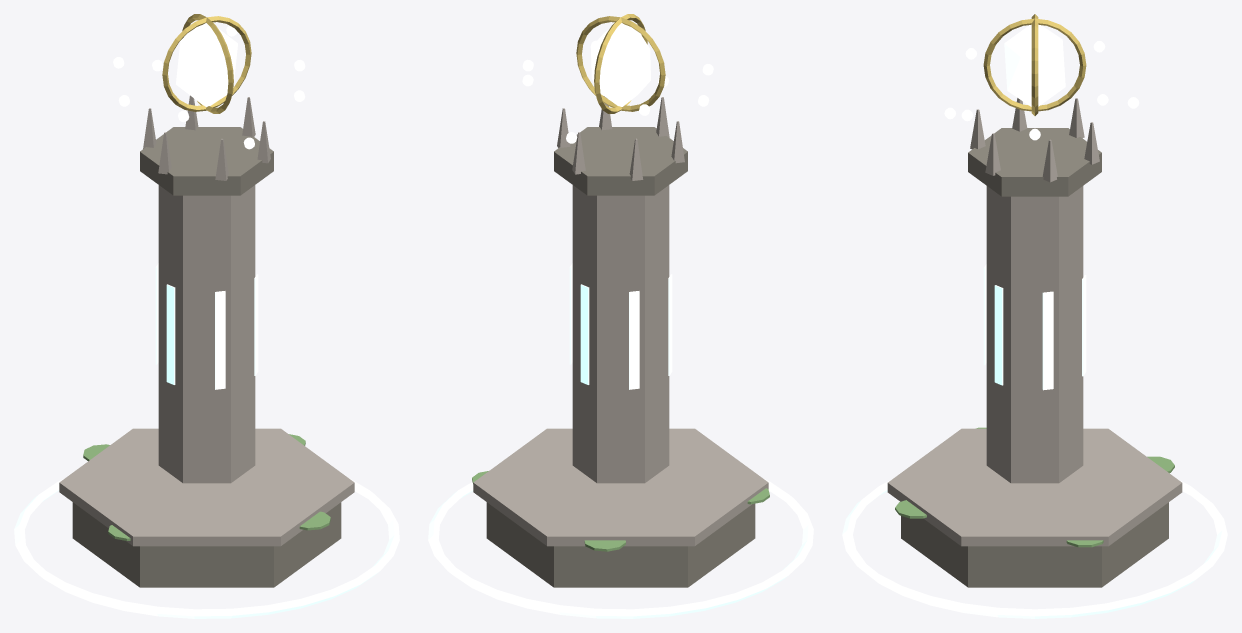
The model's file is waypoint_pillar.glb.
The picture shows the model from 3 angles, left to right: view 1: azimuth 30°, elevation 25°; view 2: azimuth 150°, elevation 25°; view 3: azimuth 270°, elevation 25°; orthographic projection.
Parts seen in each view (by area): view 1: waypoint_pillar; view 2: waypoint_pillar; view 3: waypoint_pillar.
Boxes of the visible parts, x1,y1,x2,y2 form: waypoint_pillar: (14, 14, 399, 618); waypoint_pillar: (428, 14, 813, 618); waypoint_pillar: (842, 14, 1227, 618).
Bounding box in the file's own units: 1.44 × 2.15 × 1.44.
